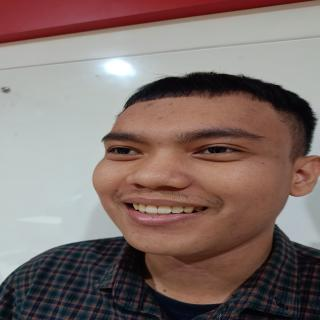Senang: (86, 84, 303, 261)
